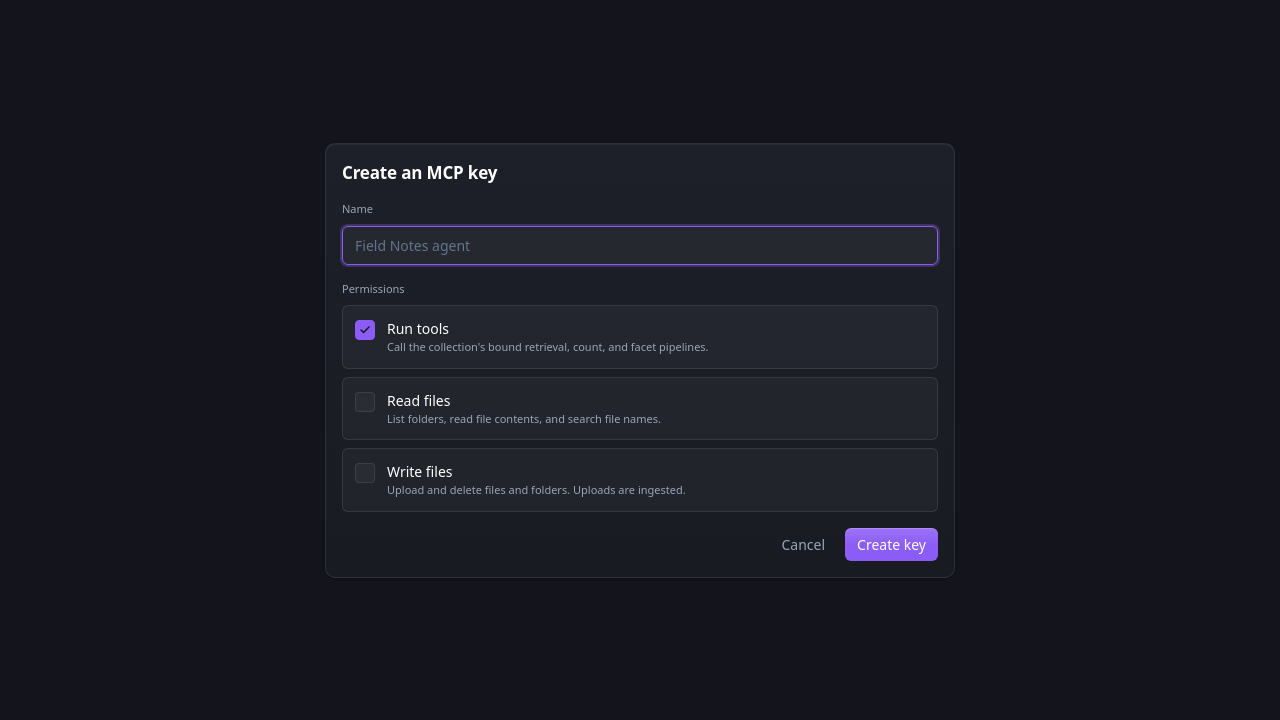
it: ConnectAgentDialog › cannot create a key with no capabilities
Click the checkbox labelled "Run tools" at coordinates (365, 330), box [355,320,375,340]
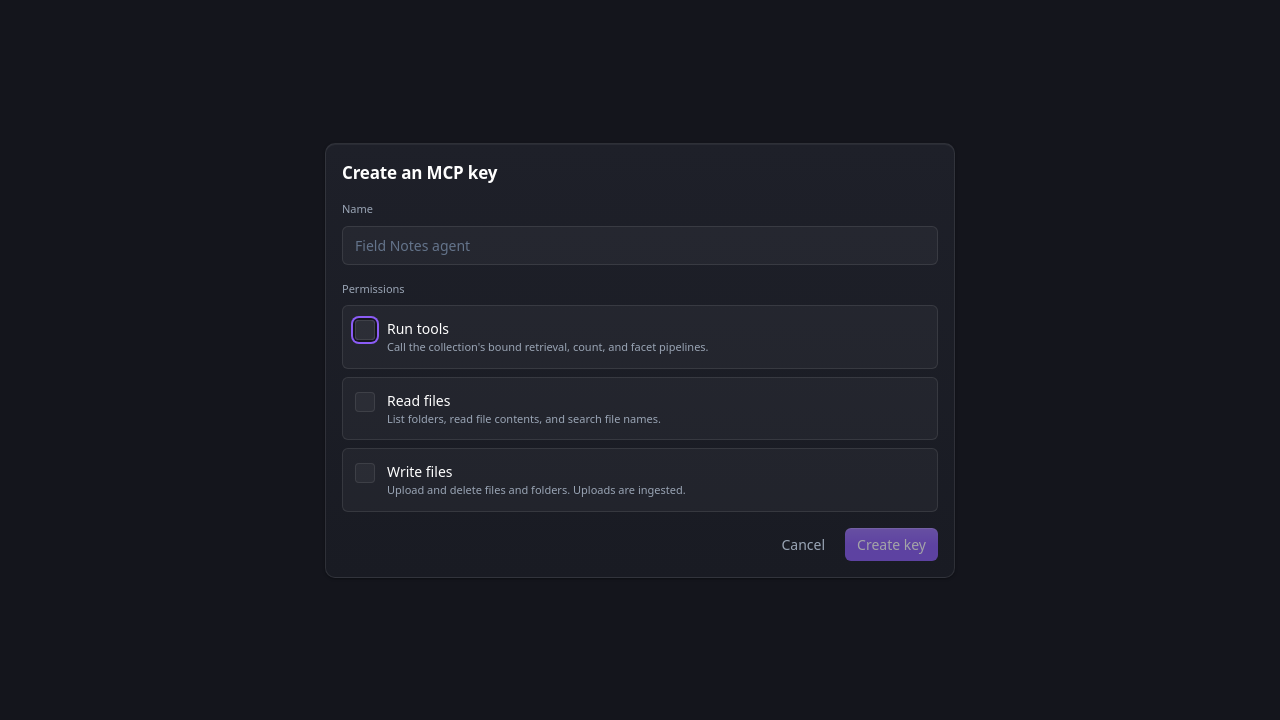
Expected: the button "Create key" is disabled, [845,528,938,560]
